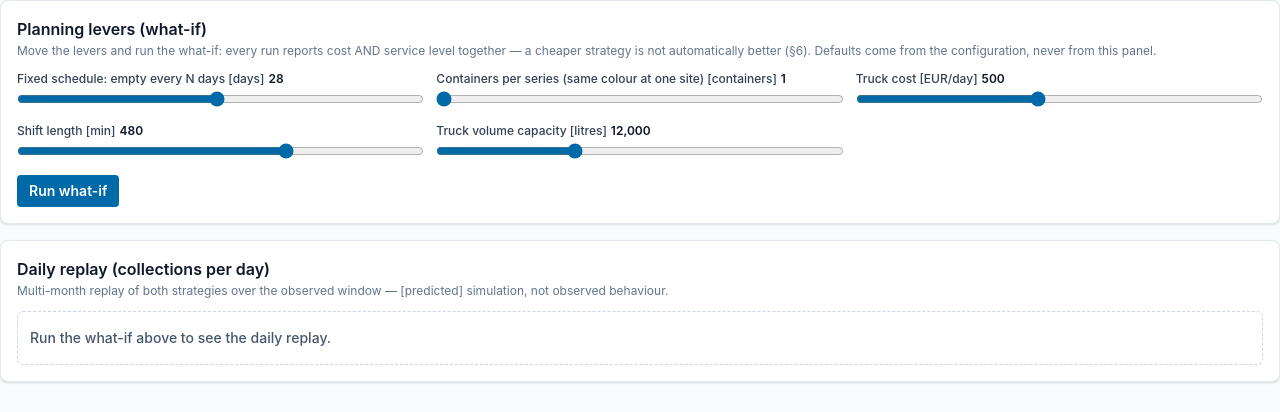
Test: ScenariosPanel — results (§6 cost + service together) › shows the empty state on 404 (no dataset, §5.3)
The width and height of the screenshot is (1280, 412).
Click the button with test id "scenarios-run" at coordinates (68, 191), box [17,175,120,207]
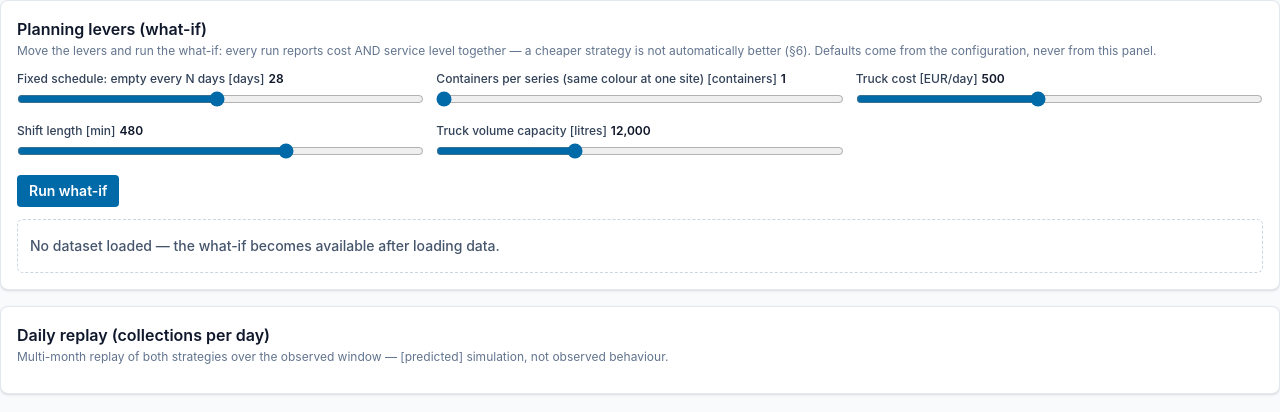
Expected: the element with test id "empty-state" shows "becomes available after loading data", [30,237,500,254]
